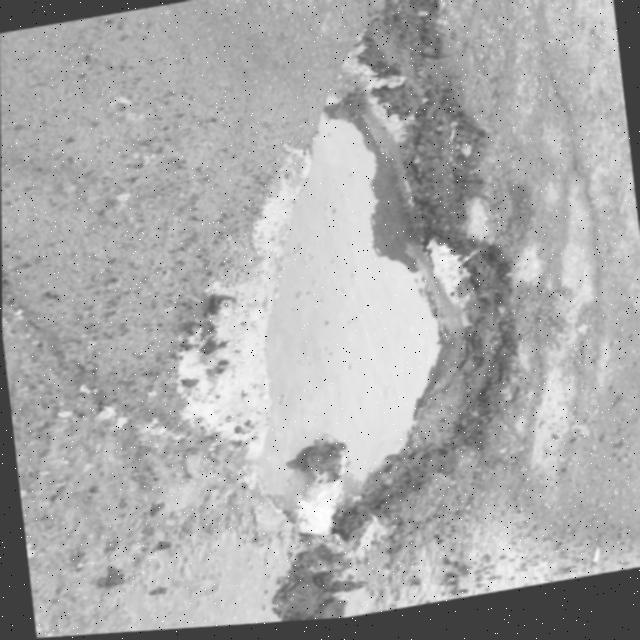pothole: (217, 3, 556, 546)
